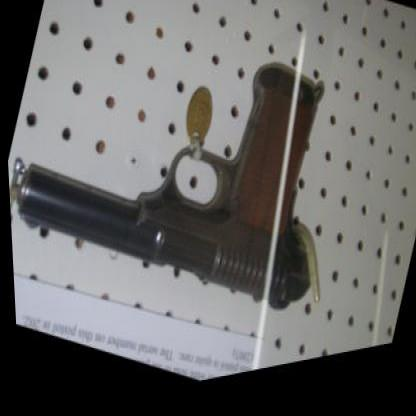pistol: (0, 0, 366, 381)
